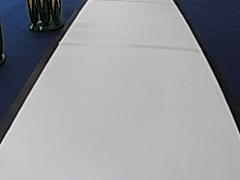corn: (25, 0, 66, 32)
